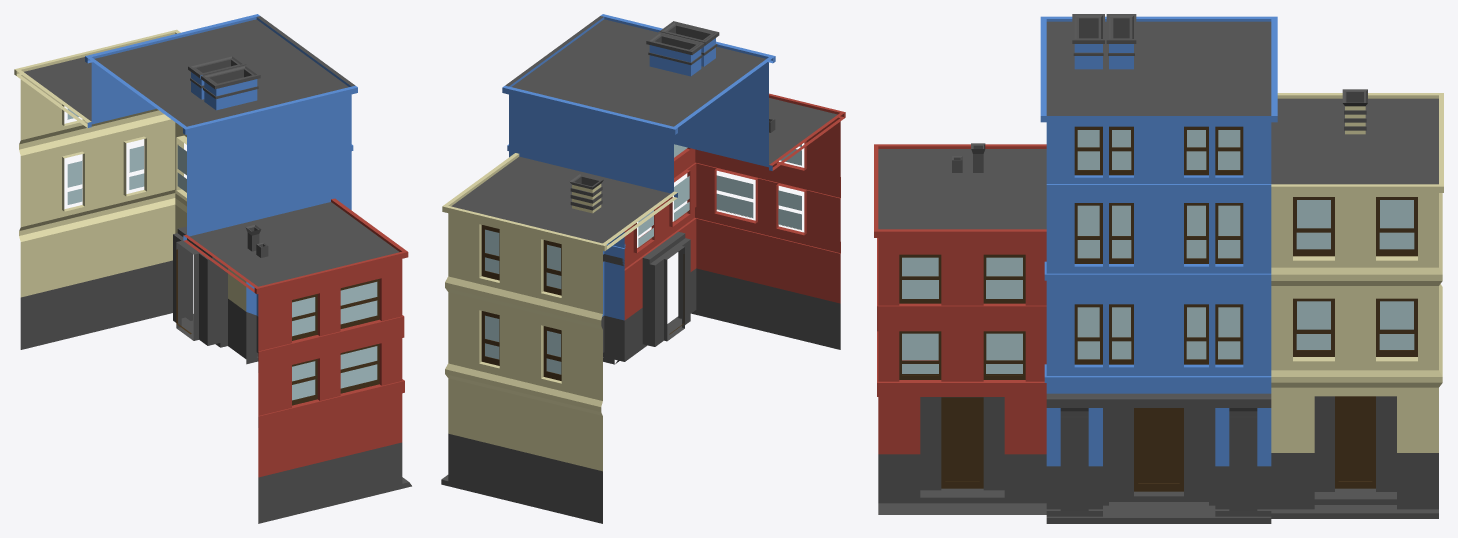
Rendered from MultiApartments.fbx.
3 views of the same model, side by side, from view 1: azimuth 30°, elevation 25°; view 2: azimuth 150°, elevation 25°; view 3: azimuth 270°, elevation 25° (orthographic). The views are drawn at different scales.
Visible parts, largest first — view 1: Cube; view 2: Cube; view 3: Cube.
Boxes of the visible parts, box(x1,y1,x2,y2) form: Cube: box(14, 14, 411, 523); Cube: box(441, 14, 845, 523); Cube: box(874, 14, 1443, 523).
Size of the model in its own units: 865 by 1708 by 2030.
